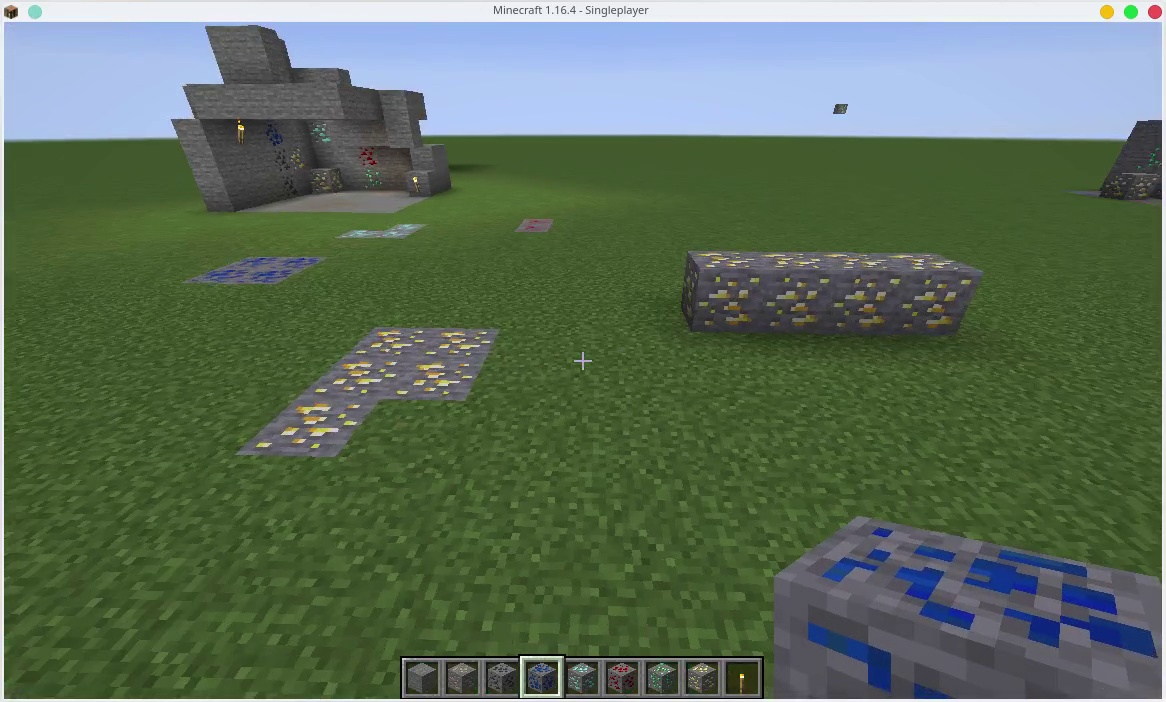gold: (688, 246, 757, 337), (894, 248, 964, 332), (262, 401, 349, 461), (766, 244, 822, 329), (826, 249, 881, 331), (310, 350, 400, 397), (404, 364, 475, 399), (449, 326, 497, 362), (1109, 168, 1150, 205), (365, 330, 435, 349), (684, 664, 716, 695), (286, 151, 312, 173), (315, 164, 337, 189)
